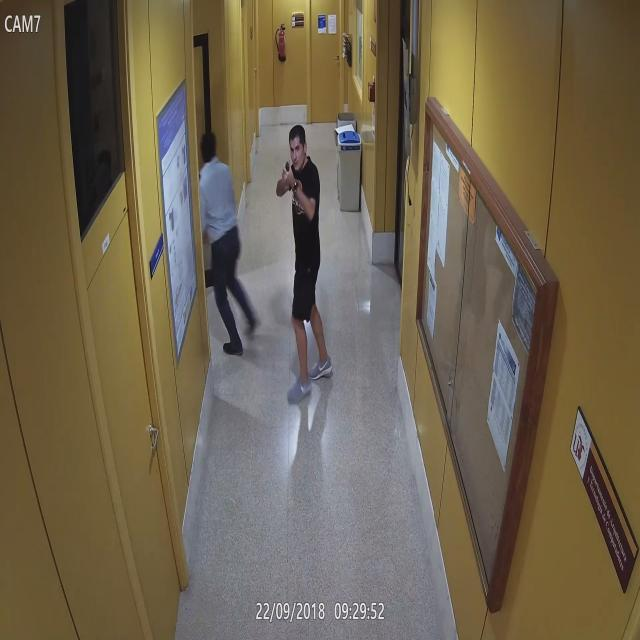Gun: (280, 155, 296, 192)
